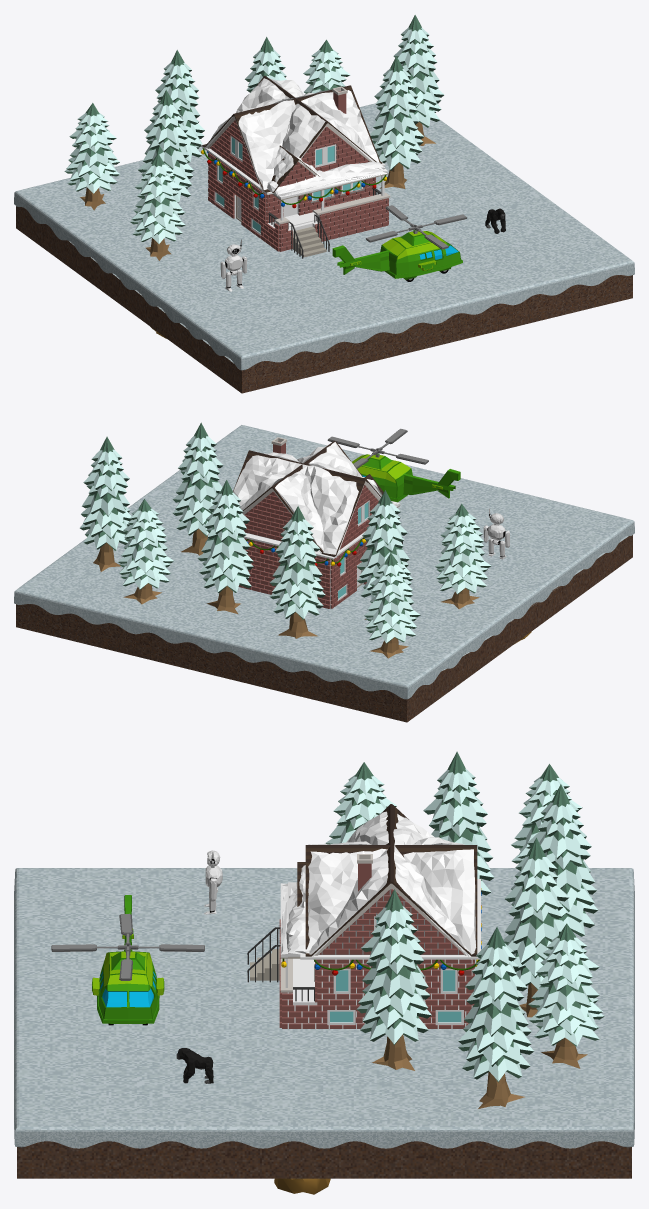
3 views of the same model, one above another, from view 1: azimuth 30°, elevation 25°; view 2: azimuth 150°, elevation 25°; view 3: azimuth 270°, elevation 25° (orthographic). The views are drawn at different scales.
Parts seen in each view (by area): view 1: Cube.003, Cube.1419, VEHICLES_HELICOPTER, OBJRANDOM_PLATZEEBOT; view 2: Cube.003, Cube.1419, VEHICLES_HELICOPTER, OBJRANDOM_PLATZEEBOT; view 3: Cube.003, Cube.1419, VEHICLES_HELICOPTER, ANIMAL_GORILA, OBJRANDOM_PLATZEEBOT, UNDERGROUND_T_REX_BONES.
Boxes of the visible parts, x1,y1,x2,y2 form: Cube.003: (14, 15, 634, 393); Cube.1419: (201, 75, 390, 258); VEHICLES_HELICOPTER: (332, 205, 466, 281); OBJRANDOM_PLATZEEBOT: (220, 239, 247, 291); Cube.003: (14, 422, 634, 722); Cube.1419: (233, 437, 402, 609); VEHICLES_HELICOPTER: (327, 428, 460, 502); OBJRANDOM_PLATZEEBOT: (483, 508, 509, 559); Cube.003: (14, 751, 634, 1178); Cube.1419: (247, 804, 481, 1028); VEHICLES_HELICOPTER: (51, 895, 204, 1025); ANIMAL_GORILA: (176, 1048, 213, 1083); OBJRANDOM_PLATZEEBOT: (204, 850, 222, 914); UNDERGROUND_T_REX_BONES: (274, 1178, 330, 1194).
Size of the model in its own units: 4040 by 1805 by 4040.
37 materials, 3 textured.
